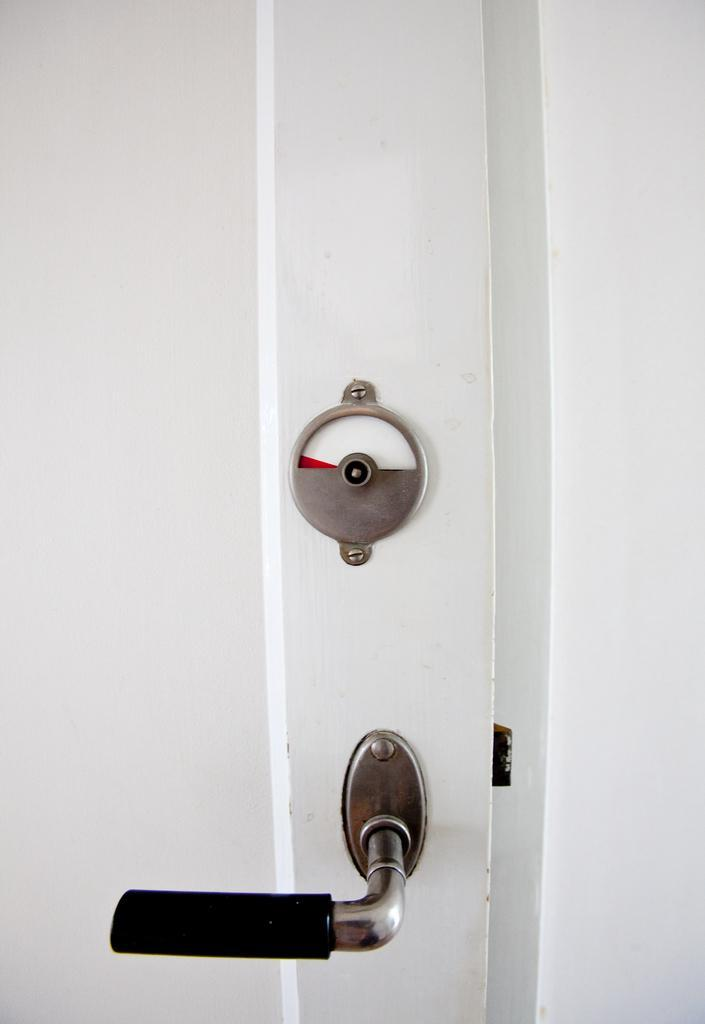door: (0, 24, 482, 983)
handle: (97, 855, 409, 987)
